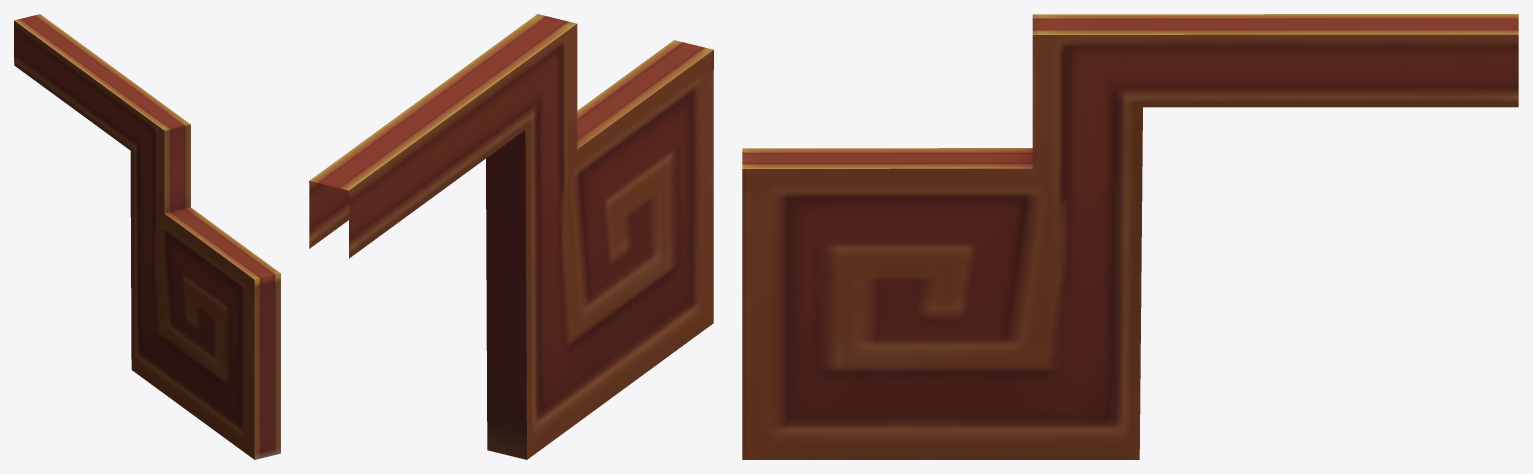
Rendered from FB_Xiaoshengxianzhuang_04.FBX.
3 views of the same model, side by side, from view 1: azimuth 30°, elevation 25°; view 2: azimuth 150°, elevation 25°; view 3: azimuth 270°, elevation 25° (orthographic). The views are drawn at different scales.
Parts seen in each view (by area): view 1: Object06; view 2: Object06; view 3: Object06.
Boxes of the visible parts, x1,y1,x2,y2 form: Object06: (14,14,280,459); Object06: (309,14,713,459); Object06: (742,14,1518,459).
Bounding box in the file's own units: 0.2634 × 2.53 × 4.19.
